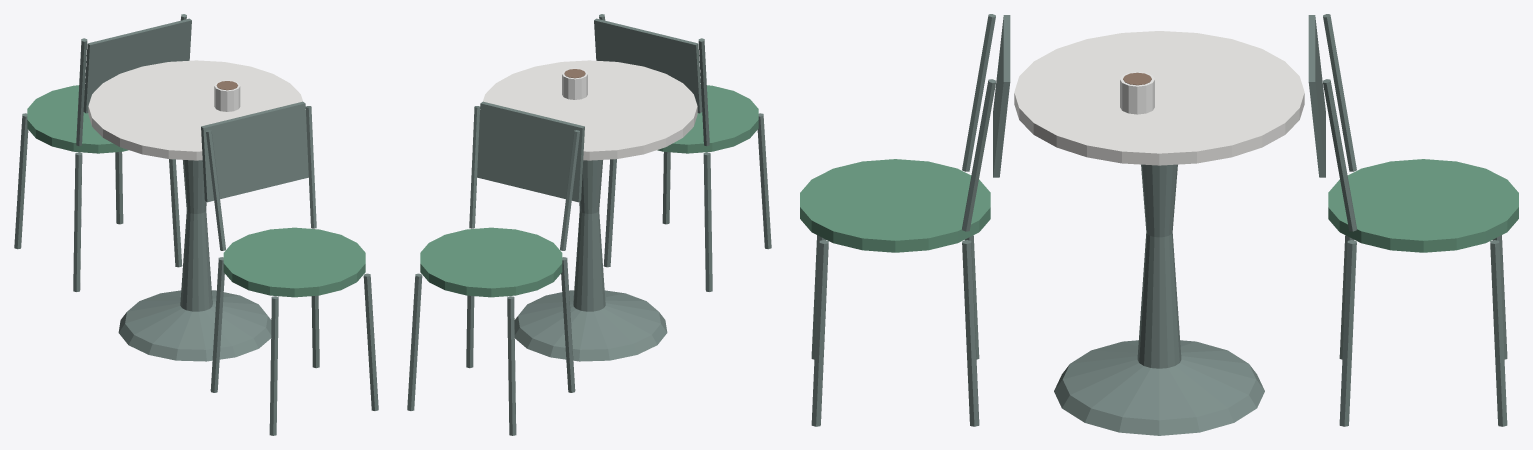
The model's file is bistro_2.glb.
3 renders of one model, left to right at view 1: azimuth 30°, elevation 25°; view 2: azimuth 150°, elevation 25°; view 3: azimuth 270°, elevation 25°, orthographic. The views are drawn at different scales.
Parts seen in each view (by area): view 1: bistro_2_cast, bistro_2_marble, bistro_2_bench_g, bistro_2_porcelain; view 2: bistro_2_cast, bistro_2_marble, bistro_2_bench_g, bistro_2_porcelain; view 3: bistro_2_cast, bistro_2_marble, bistro_2_bench_g, bistro_2_porcelain.
Part boxes in pixels (x1,y1,x2,y2): bistro_2_cast: [14, 14, 378, 435]; bistro_2_marble: [88, 60, 302, 160]; bistro_2_bench_g: [27, 85, 365, 297]; bistro_2_porcelain: [214, 80, 240, 111]; bistro_2_cast: [407, 14, 771, 435]; bistro_2_marble: [483, 60, 697, 160]; bistro_2_bench_g: [420, 85, 758, 297]; bistro_2_porcelain: [562, 68, 587, 99]; bistro_2_cast: [811, 14, 1507, 435]; bistro_2_marble: [1014, 31, 1304, 165]; bistro_2_bench_g: [800, 159, 1518, 252]; bistro_2_porcelain: [1120, 71, 1154, 114].
Size of the model in its own units: 0.66 by 0.8622 by 1.63.
